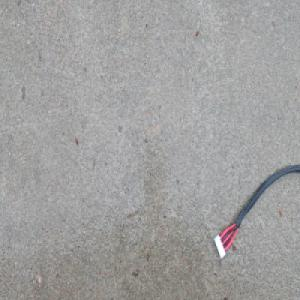Wire: (213, 163, 299, 260)
